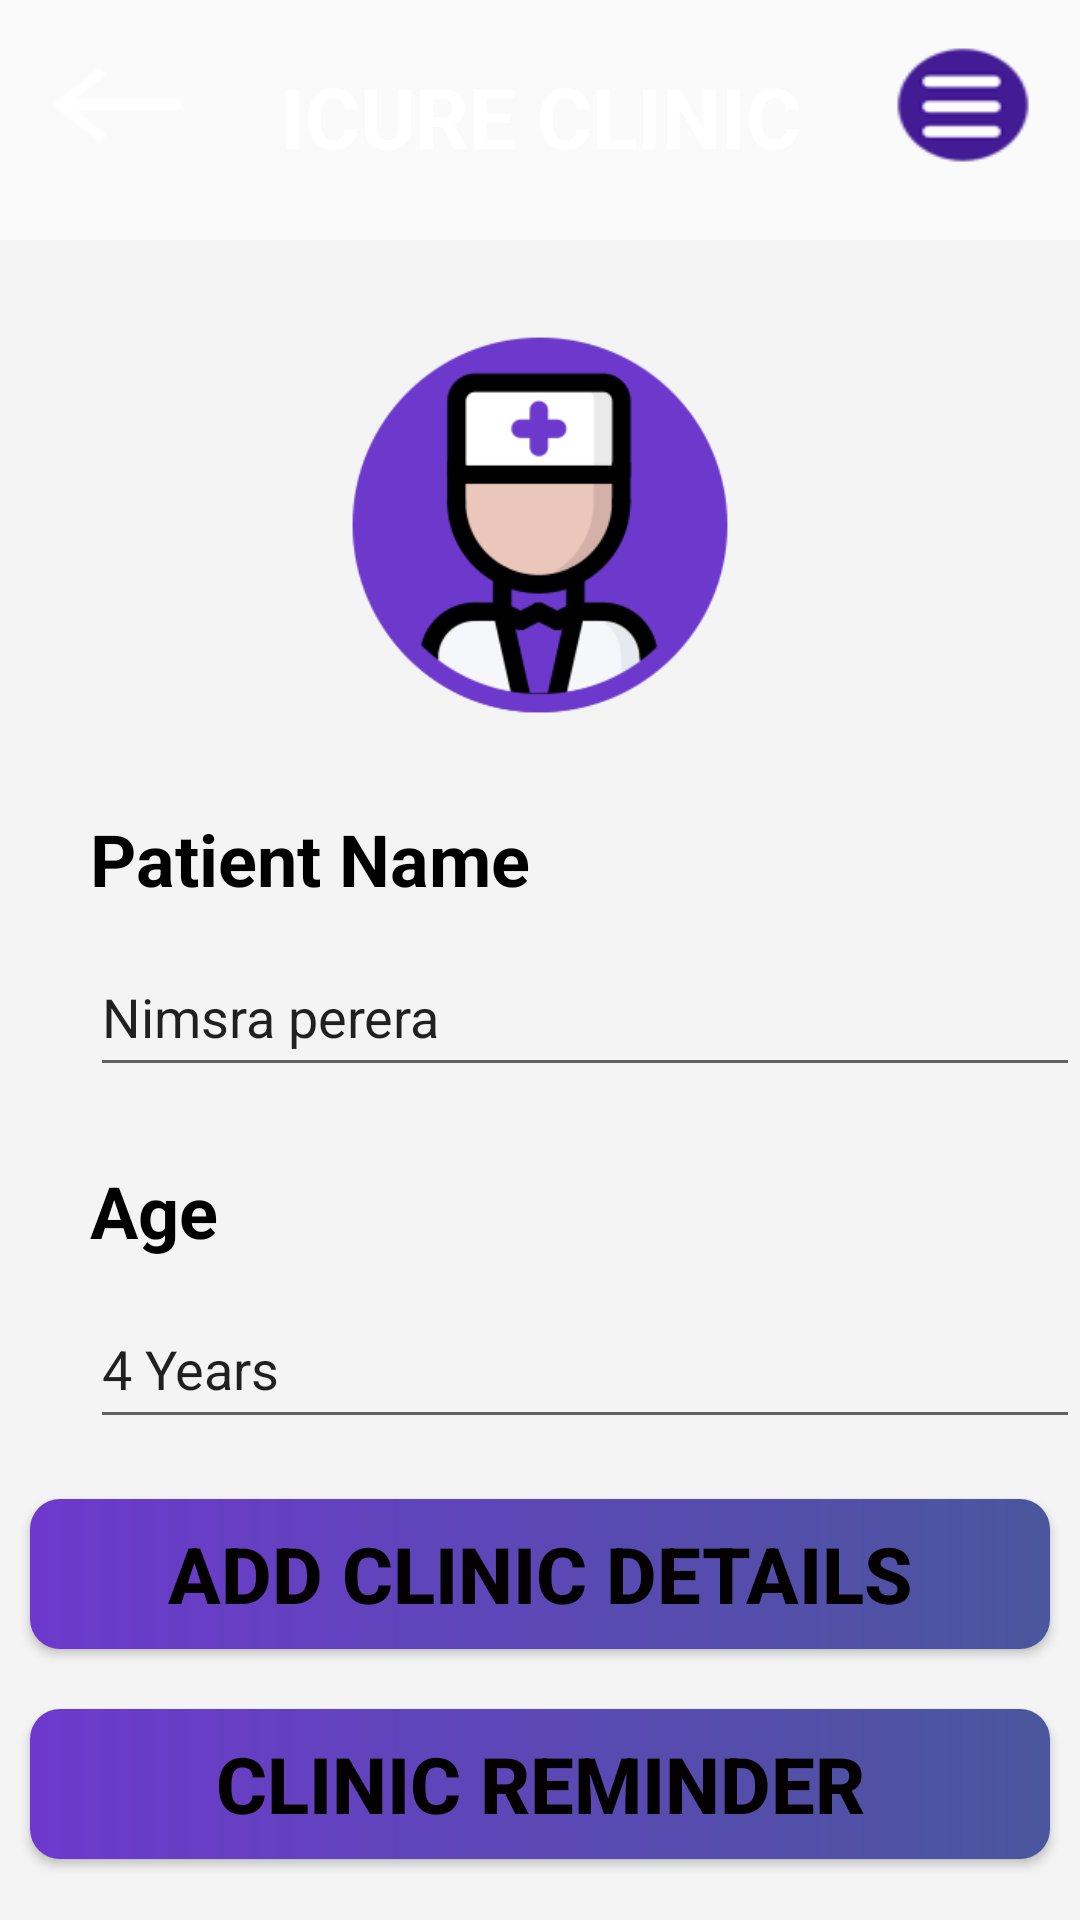

Icon click points for this 1080 × 1920 phone screenshot, format (x=x, y=y):
menu: (x=963, y=105)
